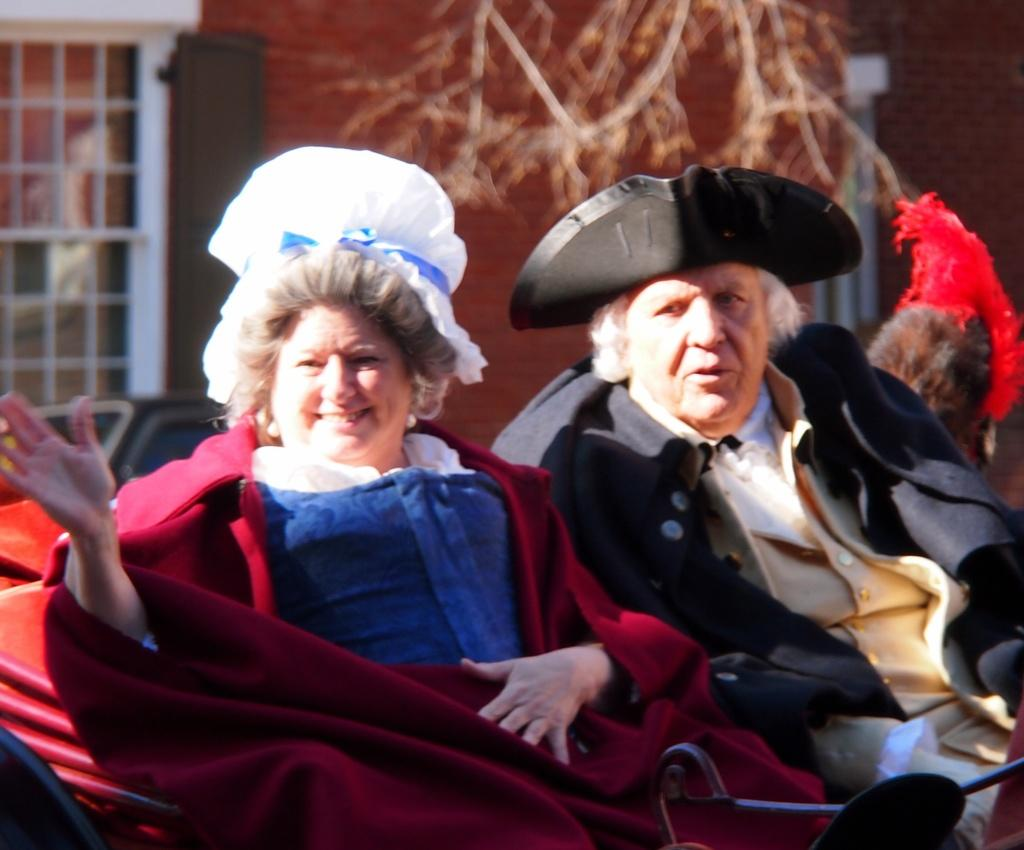Hat: (508, 162, 864, 332)
